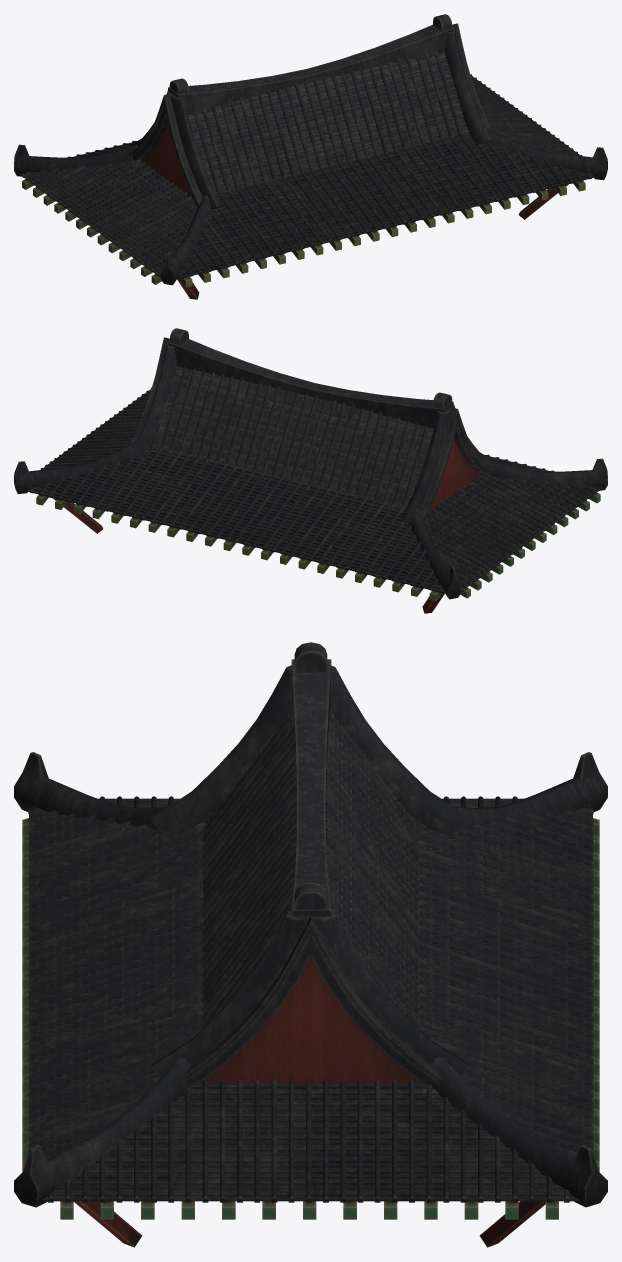
Rendered from hanok_roof.fbx.
3 renders of one model, top to bottom at view 1: azimuth 30°, elevation 25°; view 2: azimuth 150°, elevation 25°; view 3: azimuth 270°, elevation 25°, orthographic. The views are drawn at different scales.
Visible parts, largest first — view 1: hanok_roof; view 2: hanok_roof; view 3: hanok_roof.
Part boxes in pixels (x1,y1,x2,y2): hanok_roof: (14, 14, 607, 299); hanok_roof: (14, 328, 607, 613); hanok_roof: (14, 642, 607, 1247).
Bounding box in the file's own units: 2580 × 963 × 1586.
1 material, 1 textured.
